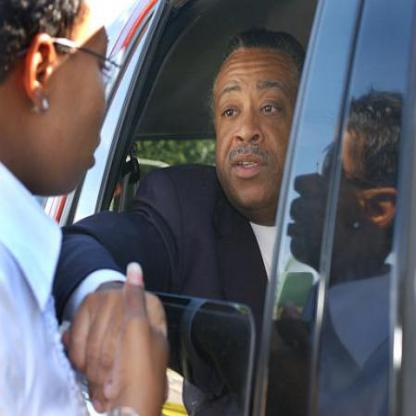face: (209, 32, 316, 216)
